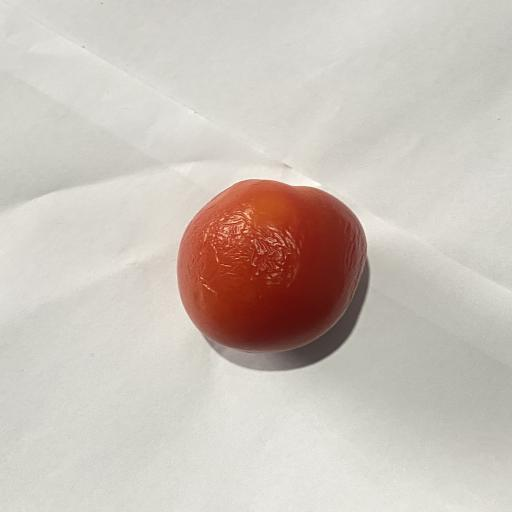spoiled: (177, 180, 366, 352)
